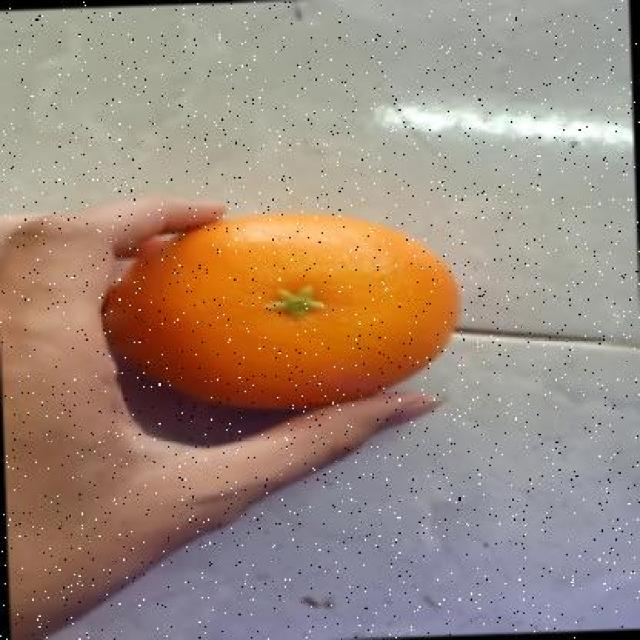Orange: (99, 210, 462, 412)
